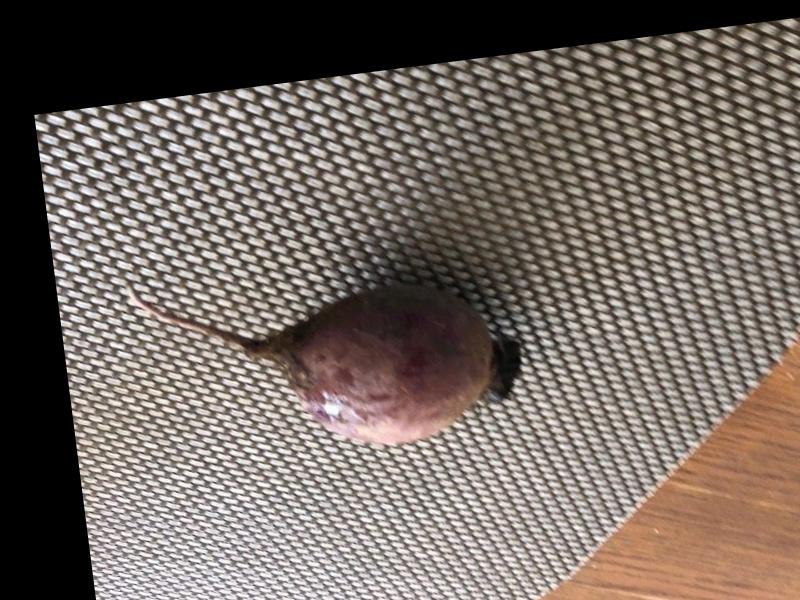Beet: (125, 236, 531, 474)
